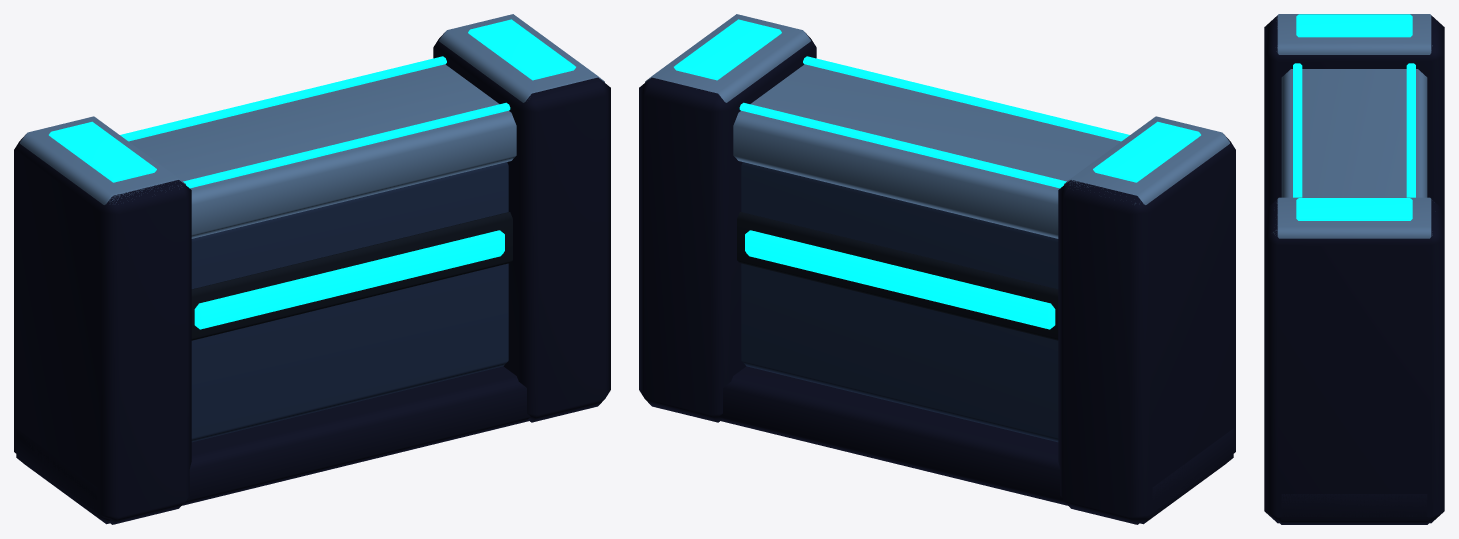
The model's file is NT_Wall_Short.fbx.
The picture shows the model from 3 angles, left to right: view 1: azimuth 30°, elevation 25°; view 2: azimuth 150°, elevation 25°; view 3: azimuth 270°, elevation 25°; orthographic projection. The views are drawn at different scales.
Visible parts, largest first — view 1: NT_Wall_Short__WallMesh; view 2: NT_Wall_Short__WallMesh; view 3: NT_Wall_Short__WallMesh.
Boxes of the visible parts, x1,y1,x2,y2 form: NT_Wall_Short__WallMesh: (14,14,610,524); NT_Wall_Short__WallMesh: (639,14,1235,524); NT_Wall_Short__WallMesh: (1264,14,1444,524).
Size of the model in its own units: 2 by 1.26 by 0.68.
